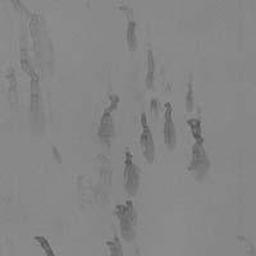Water spot: (76, 5, 178, 256), (5, 0, 69, 157), (184, 72, 212, 182), (236, 233, 256, 256), (33, 236, 56, 256), (51, 145, 63, 166), (0, 195, 13, 209), (56, 220, 67, 234), (6, 237, 15, 251)
